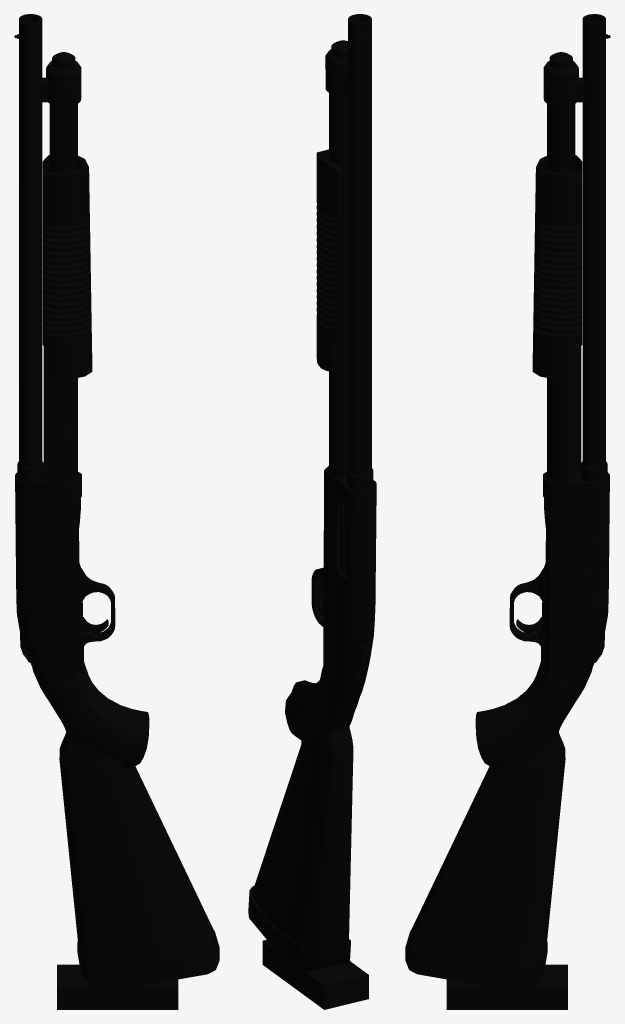
Rendered from M590__RecoilPad_Rubber.fbx.
3 views of the same model, side by side, from view 1: azimuth 90°, elevation 25°; view 2: azimuth 210°, elevation 25°; view 3: azimuth 270°, elevation 25° (orthographic).
Visible parts, largest first — view 1: asset_M590.001; view 2: asset_M590.001; view 3: asset_M590.001.
Part boxes in pixels (left/top/right/bottom): asset_M590.001: left=14, top=14, right=219, bottom=1009; asset_M590.001: left=248, top=14, right=376, bottom=1009; asset_M590.001: left=405, top=14, right=610, bottom=1009.
Size of the model in its own units: 0.0323 by 0.615 by 0.1167.
